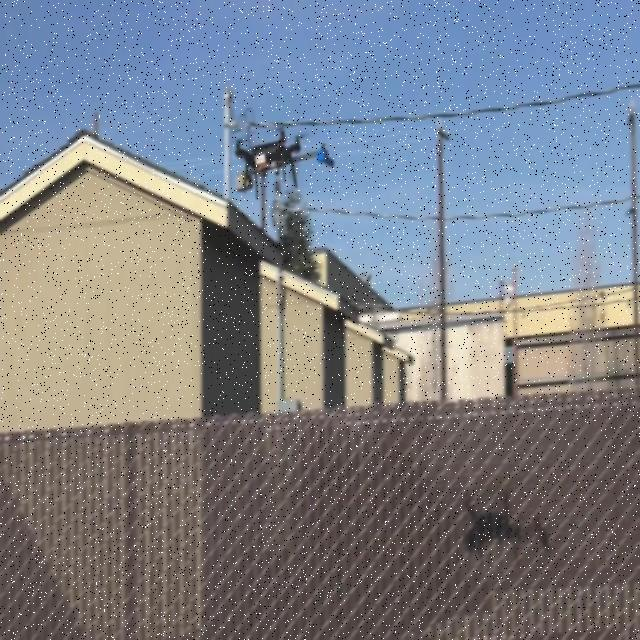UAV: (234, 127, 334, 199)
